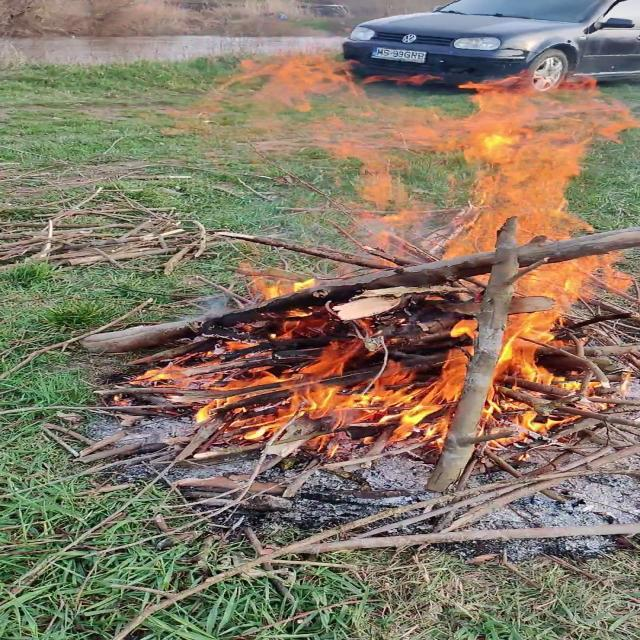Fire: (124, 34, 640, 437)
